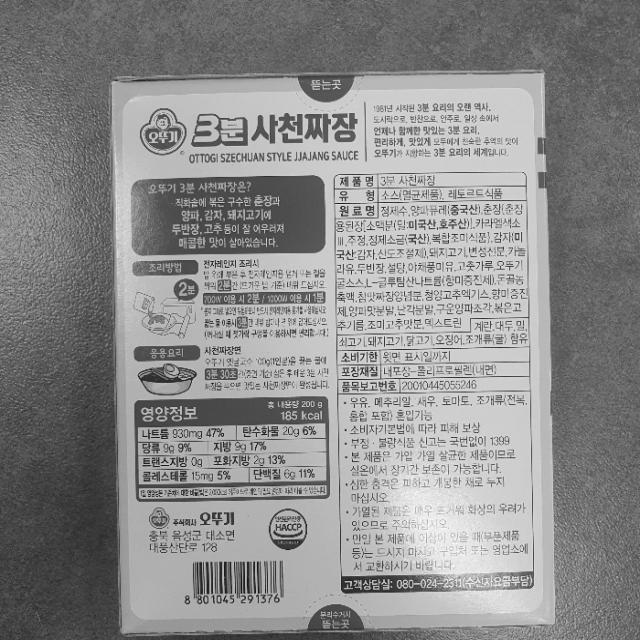Nutrition Label: (125, 387, 334, 505)
